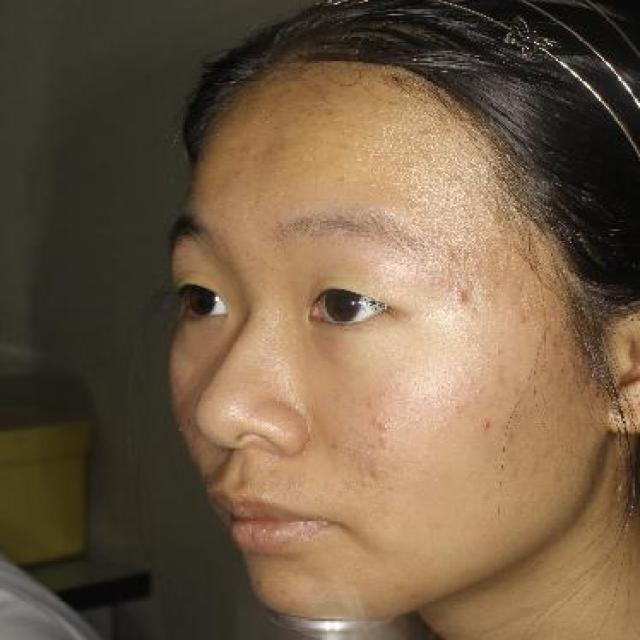dark spot: (476, 415, 494, 437)
papules: (450, 288, 474, 306)
whiteheads: (502, 424, 520, 444), (373, 416, 392, 432), (458, 189, 478, 200), (366, 397, 378, 411), (368, 180, 380, 191), (231, 170, 245, 178), (493, 349, 503, 360), (474, 386, 484, 397), (474, 342, 486, 351), (467, 376, 479, 384), (406, 165, 418, 172), (308, 112, 317, 121), (313, 174, 324, 180)
